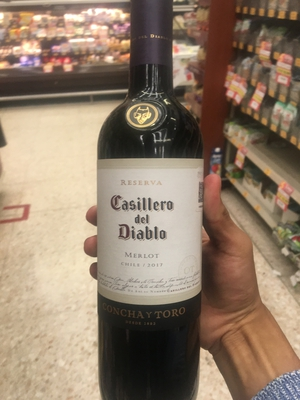casillero del diablo merlot: (92, 30, 209, 400)
